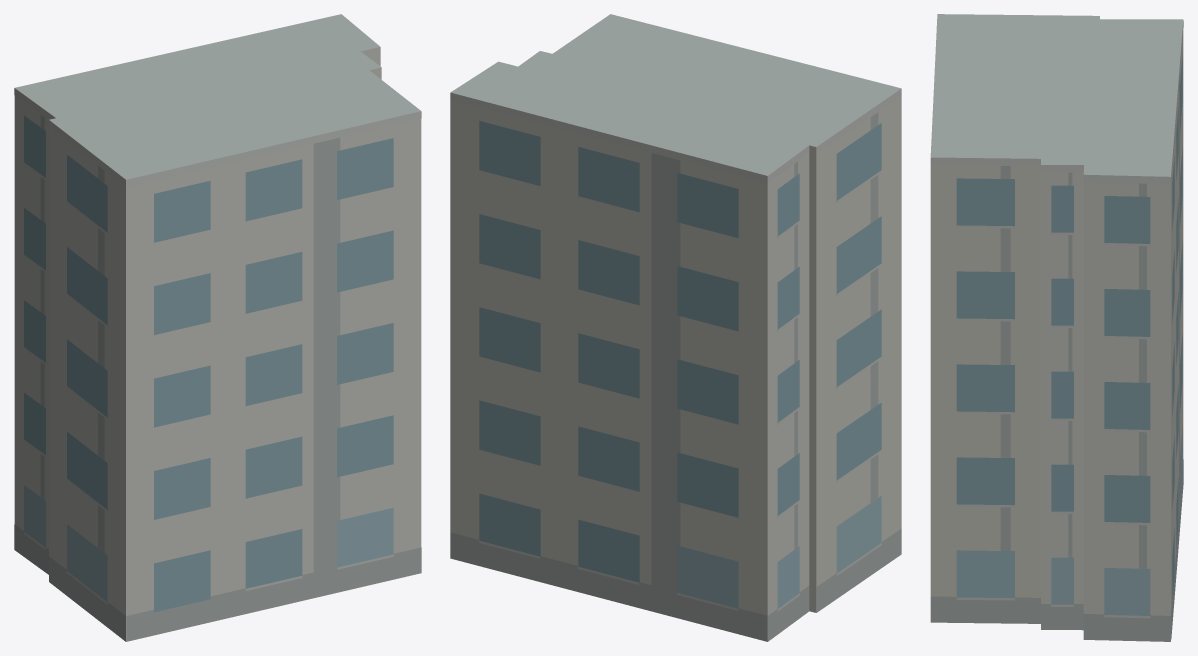
The model's file is survey-upis-32699432.glb.
3 renders of one model, left to right at view 1: azimuth 30°, elevation 25°; view 2: azimuth 150°, elevation 25°; view 3: azimuth 270°, elevation 25°, orthographic.
Parts seen in each view (by area): view 1: survey-upis-32699432.tmp; view 2: survey-upis-32699432.tmp; view 3: survey-upis-32699432.tmp.
Part boxes in pixels (<box>): survey-upis-32699432.tmp: <box>14,14,421,641</box>; survey-upis-32699432.tmp: <box>450,14,901,641</box>; survey-upis-32699432.tmp: <box>930,14,1183,641</box>.
Bounding box in the file's own units: 11.27 × 15 × 7.4.
